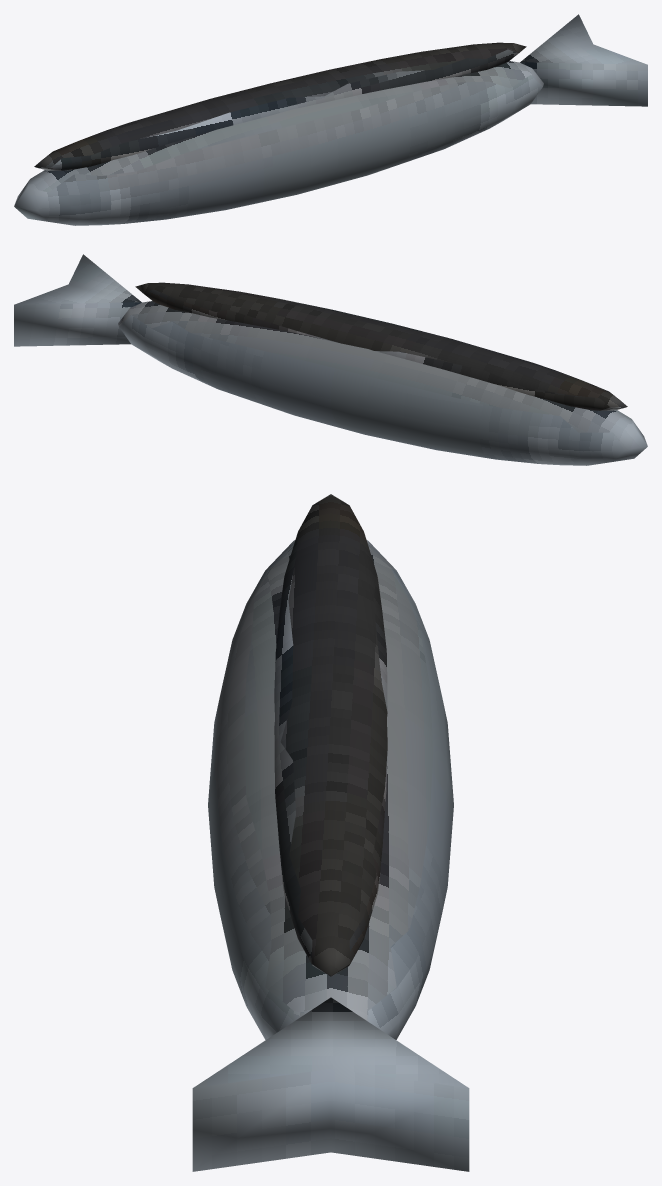
File: pellet_sanma.glb
3 renders of one model, top to bottom at view 1: azimuth 30°, elevation 25°; view 2: azimuth 150°, elevation 25°; view 3: azimuth 270°, elevation 25°, orthographic. The views are drawn at different scales.
Visible parts, largest first — view 1: prop_pellet_sanma_felt; view 2: prop_pellet_sanma_felt; view 3: prop_pellet_sanma_felt.
Part boxes in pixels (x1,y1,x2,y2): prop_pellet_sanma_felt: (14, 14, 647, 225); prop_pellet_sanma_felt: (14, 254, 647, 465); prop_pellet_sanma_felt: (192, 494, 469, 1171).
Size of the model in its own units: 0.135 by 0.0225 by 0.027.
Materials: 1 (1 with a texture image).
